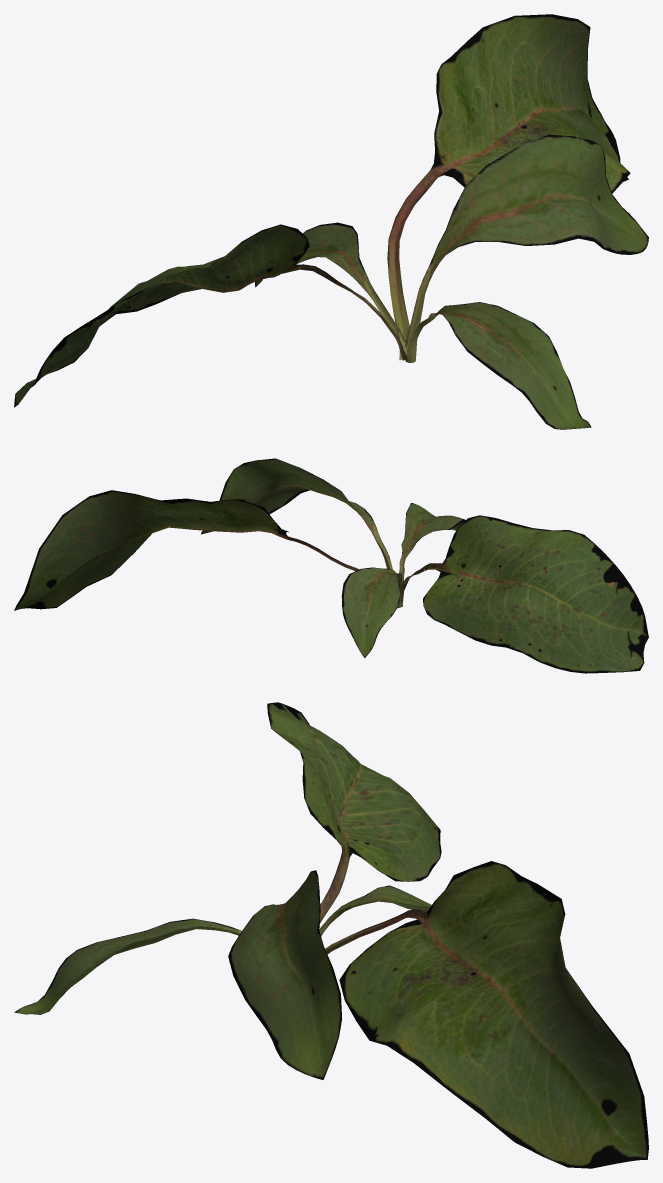
The model's file is weed_plant_02_v4.glb.
3 renders of one model, top to bottom at view 1: azimuth 30°, elevation 25°; view 2: azimuth 150°, elevation 25°; view 3: azimuth 270°, elevation 25°, orthographic. The views are drawn at different scales.
Visible parts, largest first — view 1: lod0; view 2: lod0; view 3: lod0.
Boxes of the visible parts, box(x1,y1,x2,y2) form: lod0: box(14, 14, 648, 429); lod0: box(14, 458, 648, 673); lod0: box(14, 702, 648, 1168).
Size of what is drawn, in the model's own units: 0.1541 by 0.0389 by 0.1081.
Materials: 1 (1 with a texture image).
